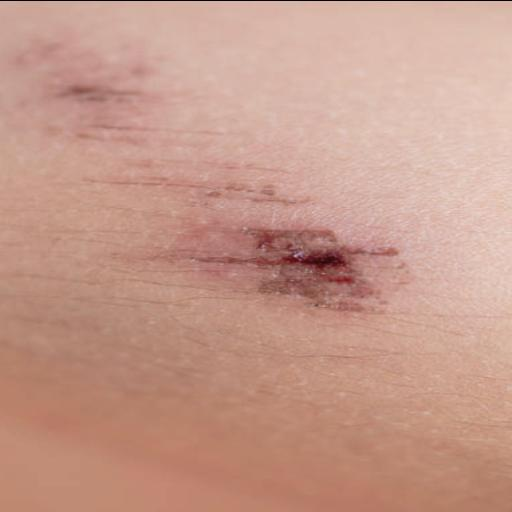bruises: (159, 213, 419, 305)
